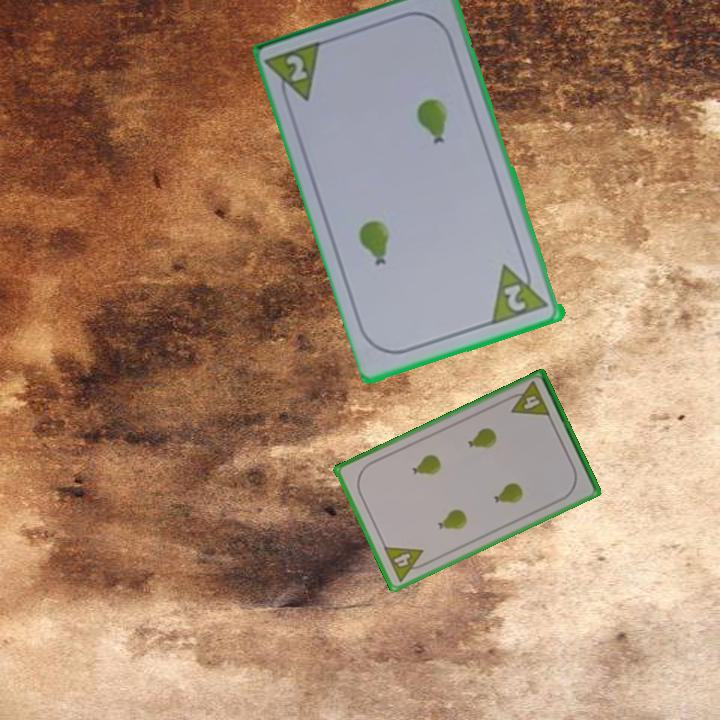2p: (501, 281, 530, 315), (283, 51, 311, 85)
4p: (380, 543, 431, 585), (503, 378, 553, 420)
